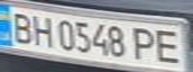0: (54, 17, 75, 52)
4: (90, 20, 109, 56)
5: (72, 19, 93, 54)
8: (106, 22, 130, 58)
B: (6, 9, 36, 44)
E: (151, 26, 190, 65)
H: (27, 12, 57, 48)
P: (130, 25, 160, 62)
